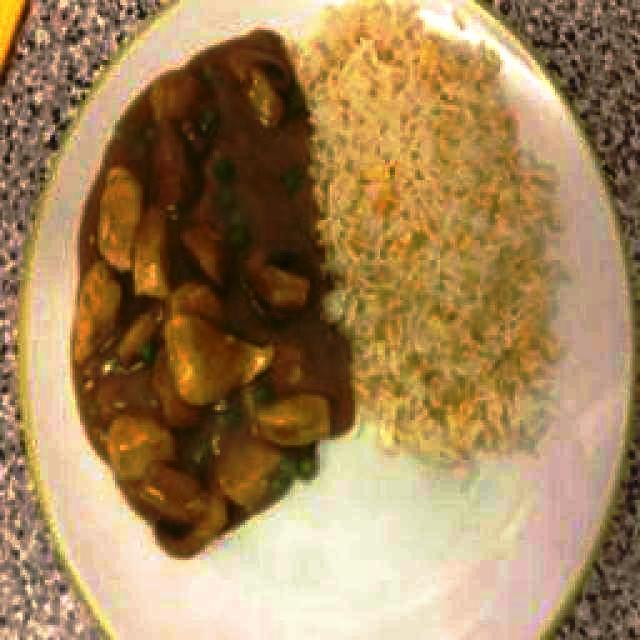curry: (73, 30, 351, 556)
rice: (305, 5, 571, 465)
